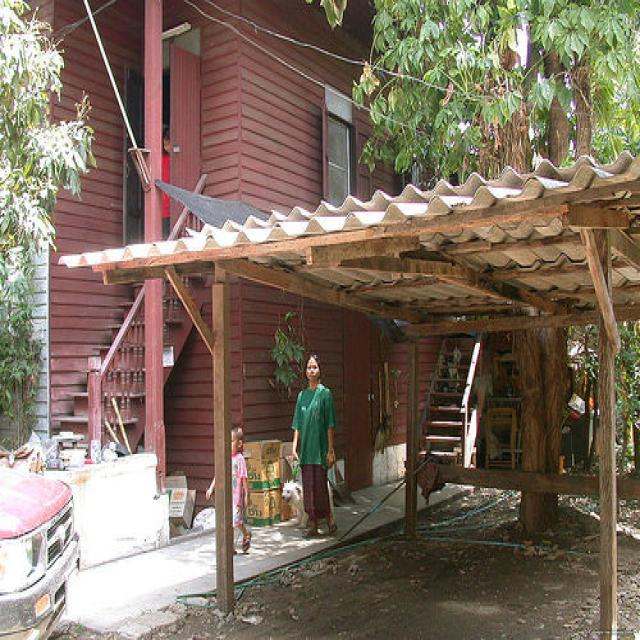light_vehicle: (0, 455, 84, 636)
